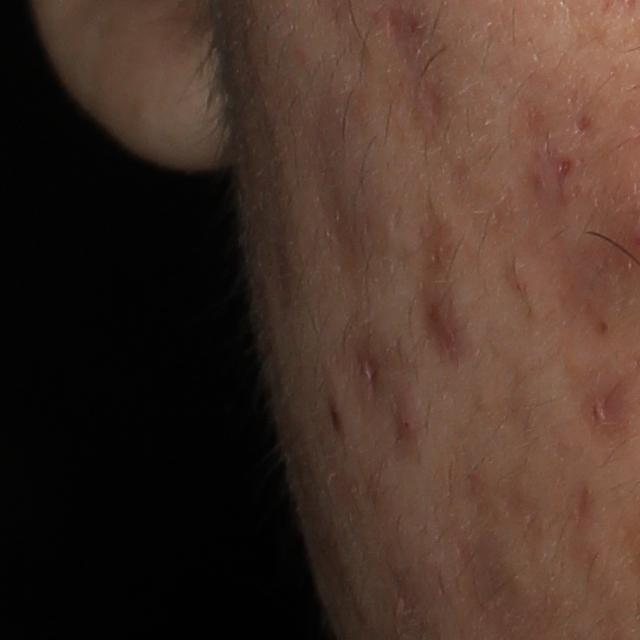atrophic_scar: (405, 206, 475, 374), (306, 122, 366, 280), (347, 331, 384, 402)
papule: (395, 396, 420, 442)
